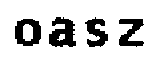a: (49, 15, 79, 50)
o: (11, 18, 42, 47)
s: (83, 17, 108, 48)
z: (114, 16, 147, 50)
